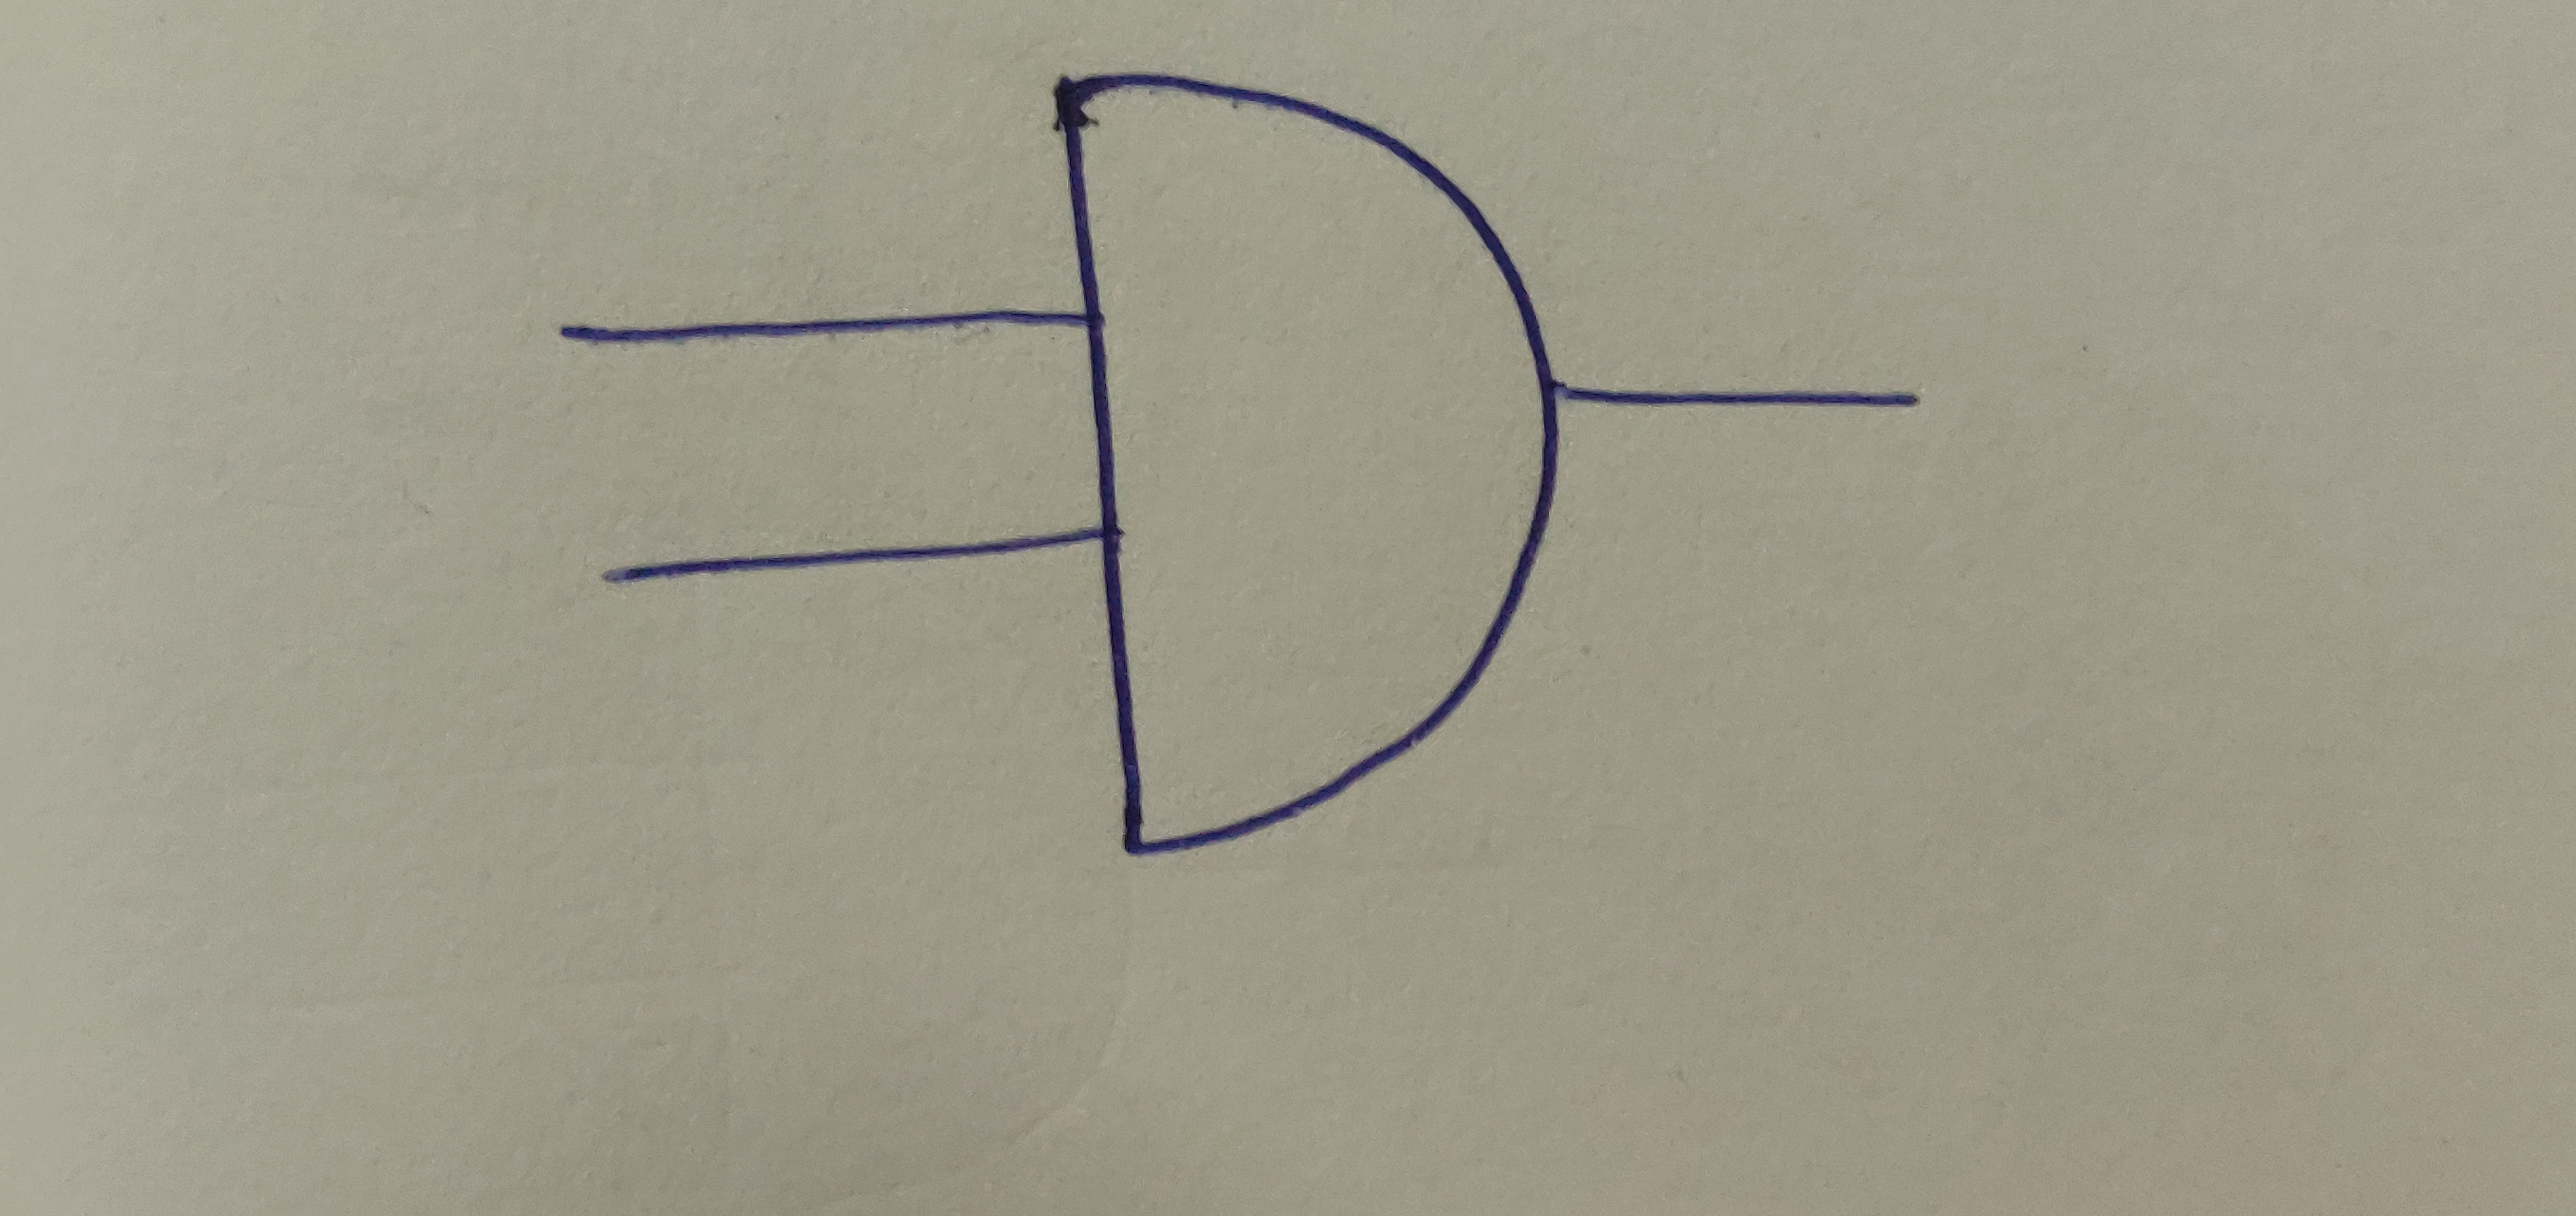and: (1050, 62, 1569, 861)
